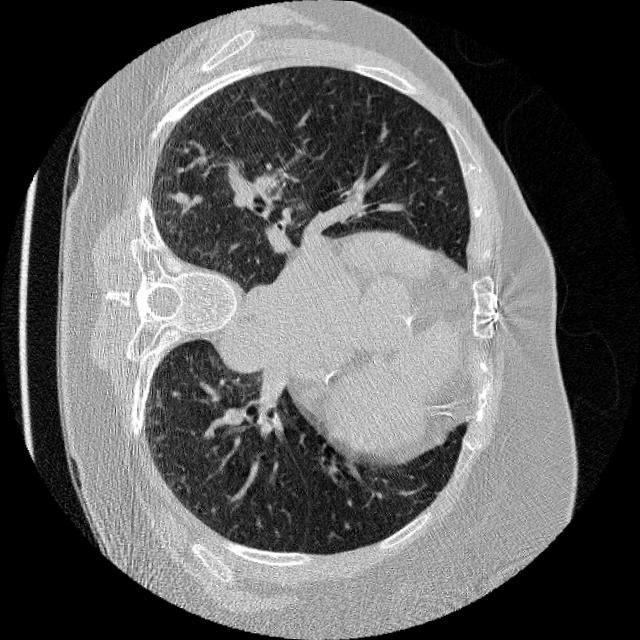nodule: (167, 182, 196, 211)
